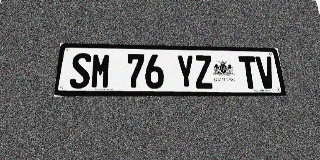6: (145, 54, 164, 89)
7: (125, 54, 145, 89)
M: (90, 53, 111, 89)
S: (69, 53, 92, 89)
T: (238, 56, 259, 89)
V: (255, 56, 277, 89)
Y: (176, 55, 195, 89)
Z: (194, 55, 214, 89)
